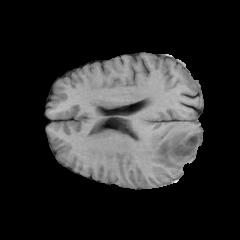glioma: (145, 126, 198, 170)
